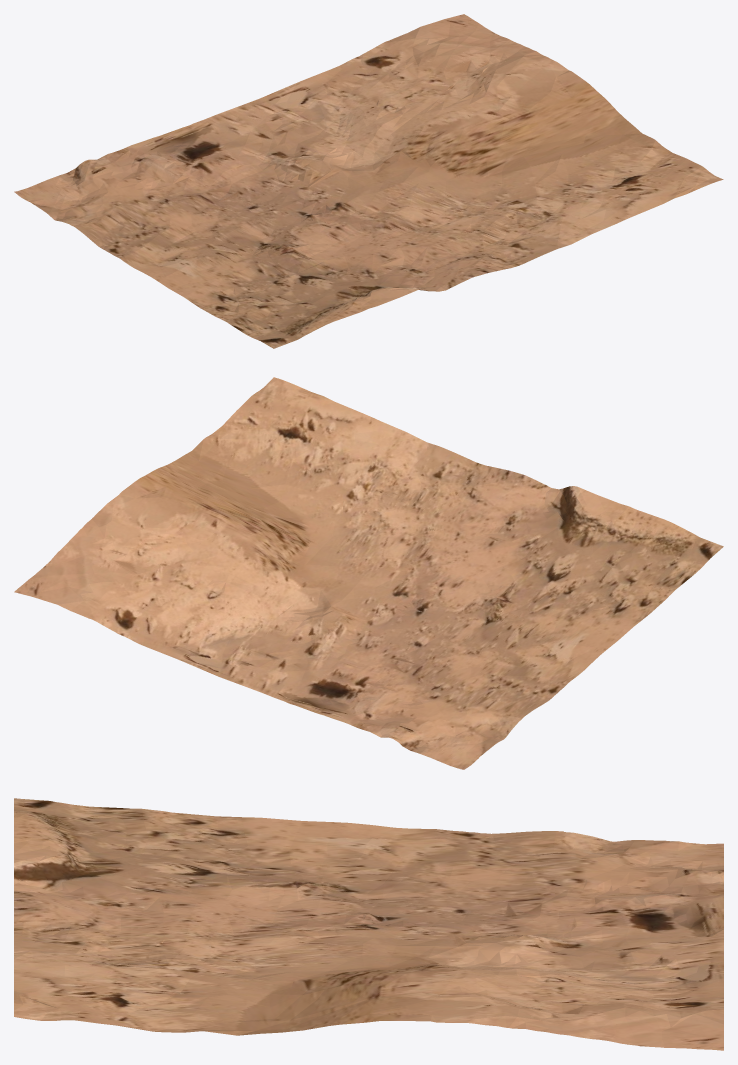
The picture shows the model from 3 angles, top to bottom: view 1: azimuth 30°, elevation 25°; view 2: azimuth 150°, elevation 25°; view 3: azimuth 270°, elevation 25°; orthographic projection. The views are drawn at different scales.
Size of the model in its own units: 4.18 by 0.8276 by 4.18.
Materials: 2 (2 with a texture image).
